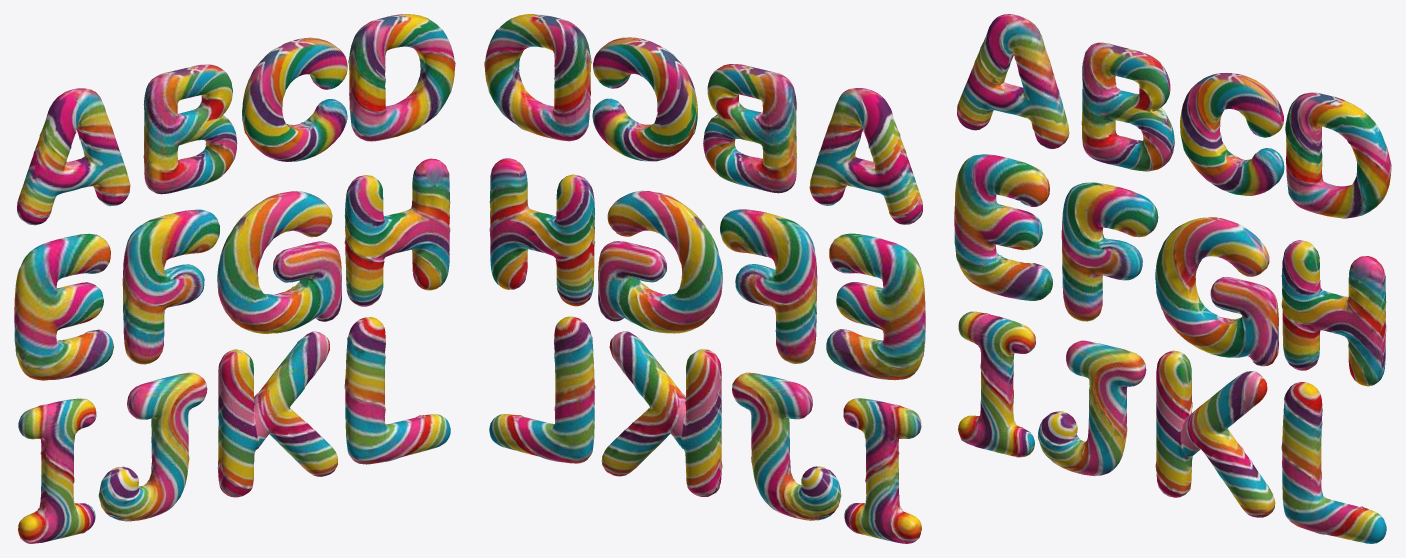
3 renders of one model, left to right at view 1: azimuth 30°, elevation 25°; view 2: azimuth 150°, elevation 25°; view 3: azimuth 330°, elevation 25°, orthographic.
Parts seen in each view (by area): view 1: model_part4, model_part5, model_part10, model_part2, model_part6, model_part0, model_part7, model_part9, model_part3, model_part8, model_part1, model_part11; view 2: model_part4, model_part5, model_part10, model_part2, model_part6, model_part0, model_part7, model_part9, model_part3, model_part8, model_part1, model_part11; view 3: model_part4, model_part5, model_part10, model_part2, model_part6, model_part0, model_part7, model_part9, model_part3, model_part8, model_part1, model_part11.
Boxes of the visible parts, x1,y1,x2,y2 form: model_part4: (217, 191, 341, 333); model_part5: (217, 331, 337, 497); model_part10: (14, 233, 113, 380); model_part2: (344, 158, 450, 306); model_part6: (143, 64, 237, 194); model_part0: (348, 14, 455, 141); model_part7: (122, 209, 219, 364); model_part9: (17, 88, 130, 225); model_part3: (242, 37, 347, 161); model_part8: (98, 372, 207, 521); model_part1: (344, 317, 450, 464); model_part11: (18, 398, 96, 543); model_part4: (598, 190, 722, 333); model_part5: (601, 331, 722, 496); model_part10: (826, 233, 925, 380); model_part2: (489, 158, 595, 306); model_part6: (703, 64, 797, 193); model_part0: (484, 14, 591, 141); model_part7: (720, 209, 817, 363); model_part9: (809, 88, 922, 224); model_part3: (592, 37, 697, 161); model_part8: (732, 372, 841, 520); model_part1: (489, 316, 595, 463); model_part11: (843, 398, 921, 543); model_part4: (1155, 217, 1278, 366); model_part5: (1155, 350, 1275, 517); model_part10: (954, 154, 1052, 300); model_part2: (1281, 240, 1386, 386); model_part6: (1081, 42, 1174, 171); model_part0: (1285, 92, 1391, 218); model_part7: (1061, 182, 1158, 321); model_part9: (957, 14, 1069, 149); model_part3: (1180, 73, 1284, 195); model_part8: (1037, 340, 1146, 476); model_part1: (1281, 382, 1386, 543); model_part11: (958, 311, 1035, 457).
Bounding box in the file's own units: 1.9 × 1.85 × 0.1158.
Materials: 1 (1 with a texture image).
